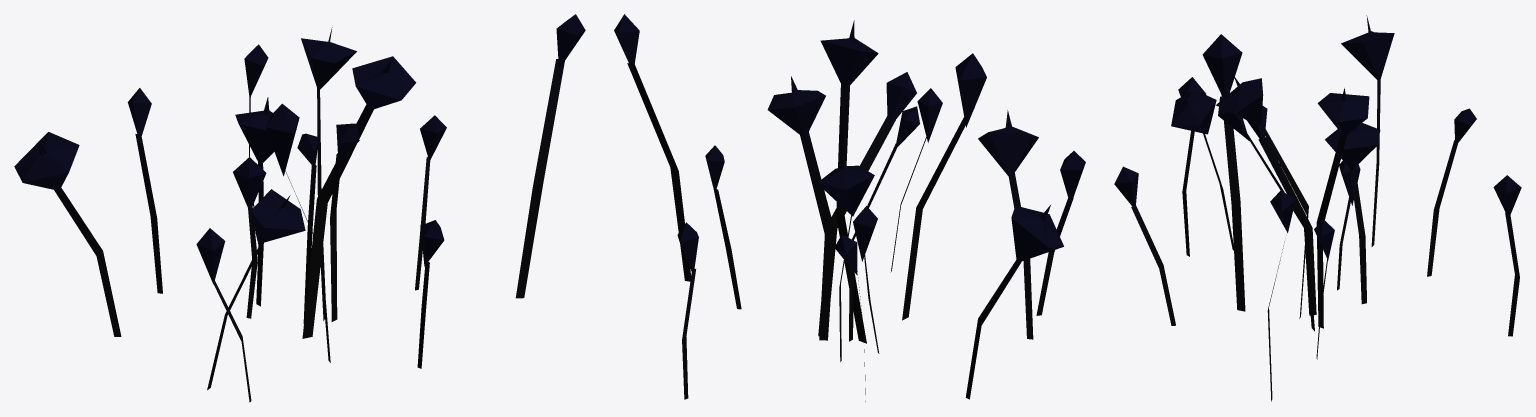
File: PatchTulip04.fbx
The picture shows the model from 3 angles, left to right: view 1: azimuth 30°, elevation 25°; view 2: azimuth 150°, elevation 25°; view 3: azimuth 270°, elevation 25°; orthographic projection. The views are drawn at different scales.
Parts seen in each view (by area): view 1: PatchTulip04; view 2: PatchTulip04; view 3: PatchTulip04.
Boxes of the visible parts, bbox=[...] form: PatchTulip04: bbox=[14, 14, 585, 402]; PatchTulip04: bbox=[614, 14, 1085, 401]; PatchTulip04: bbox=[1114, 15, 1521, 401].
Size of the model in its own units: 101 by 55.16 by 77.2.
